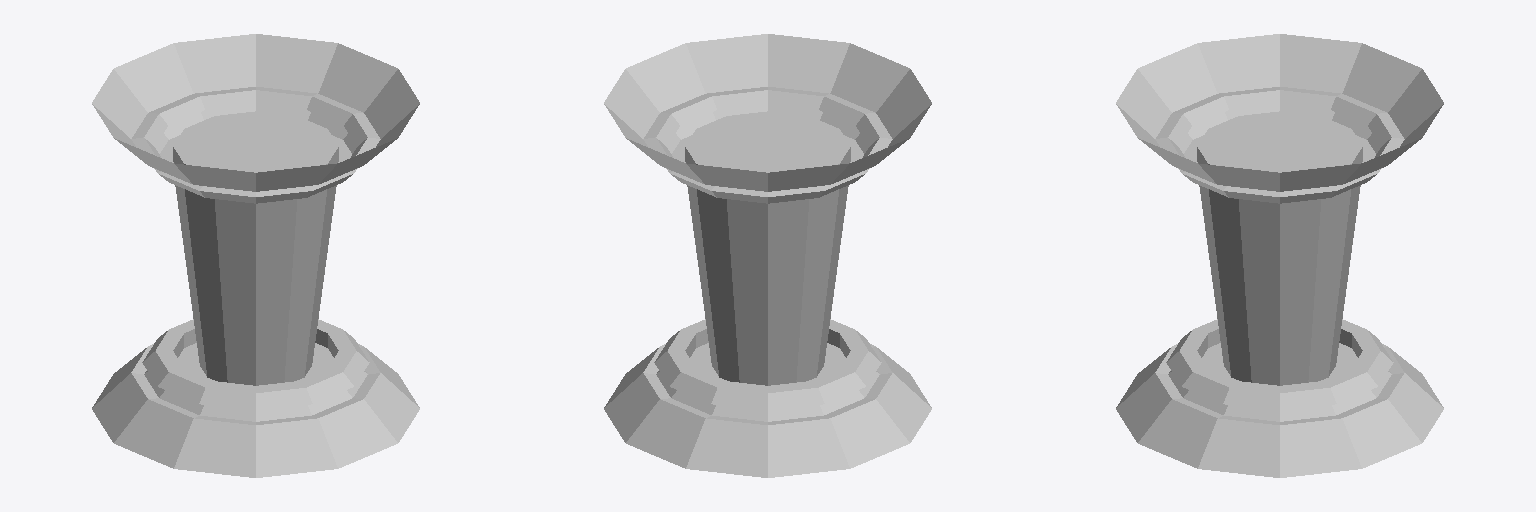
File: Orrery.obj
The picture shows the model from 3 angles: view 1: azimuth 30°, elevation 25°; view 2: azimuth 150°, elevation 25°; view 3: azimuth 270°, elevation 25°; orthographic projection.
Parts seen in each view (by area): view 1: Orrery; view 2: Orrery; view 3: Orrery.
Part boxes in pixels (x1,y1,x2,y2): Orrery: (92, 34, 419, 477); Orrery: (604, 34, 931, 477); Orrery: (1116, 34, 1443, 477).
Size of the model in its own units: 4 by 4.1 by 4.